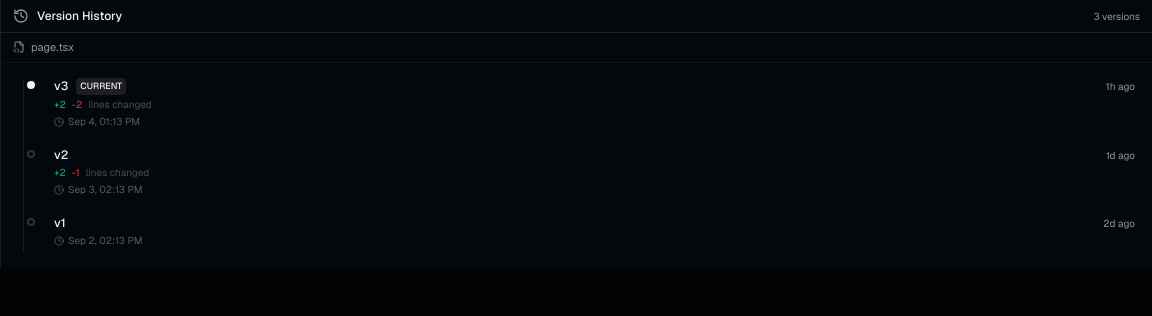
VersionHistoryPanel › shows preview button when version is selected
The width and height of the screenshot is (1152, 316).
# Click on the first version entry (v3)
Click the text "v3" at (61, 86), box [54,78,68,94]
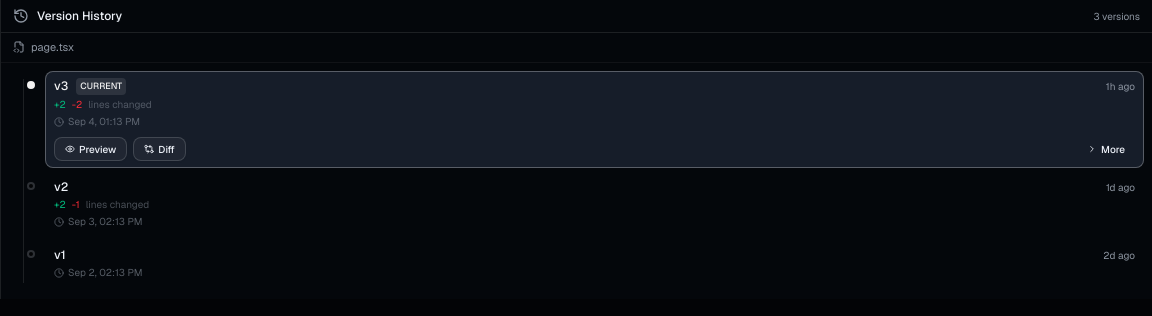
Now the button "Preview" is shown, box [54,137,127,161]
